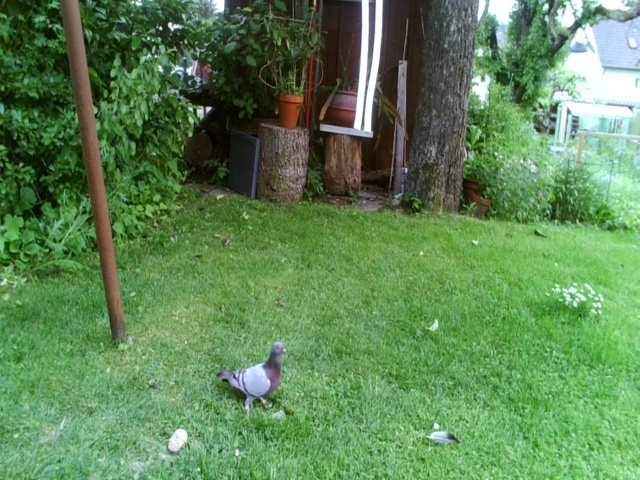Pigeon: (215, 340, 297, 421)
